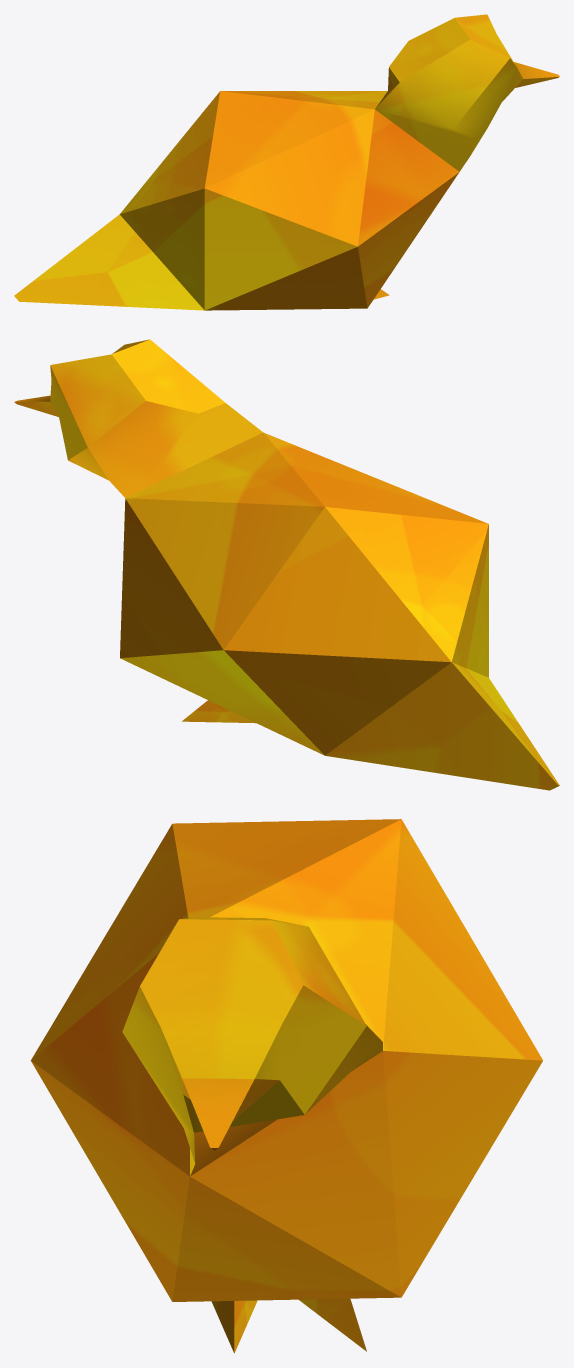
File: bird.fbx
3 views of the same model, one above another, from view 1: azimuth 30°, elevation 25°; view 2: azimuth 150°, elevation 25°; view 3: azimuth 270°, elevation 25° (orthographic). The views are drawn at different scales.
Visible parts, largest first — view 1: pPlatonic8; view 2: pPlatonic8, pPyramid2; view 3: pPlatonic8, pPyramid2, pPyramid1.
Part boxes in pixels (bbox=[...]): pPlatonic8: bbox=[14, 14, 559, 310]; pPlatonic8: bbox=[14, 339, 559, 790]; pPyramid2: bbox=[182, 700, 255, 723]; pPlatonic8: bbox=[31, 819, 542, 1301]; pPyramid2: bbox=[299, 1298, 366, 1351]; pPyramid1: bbox=[211, 1300, 257, 1353].
Bounding box in the file's own units: 0.5856 × 0.2919 × 0.2663.
